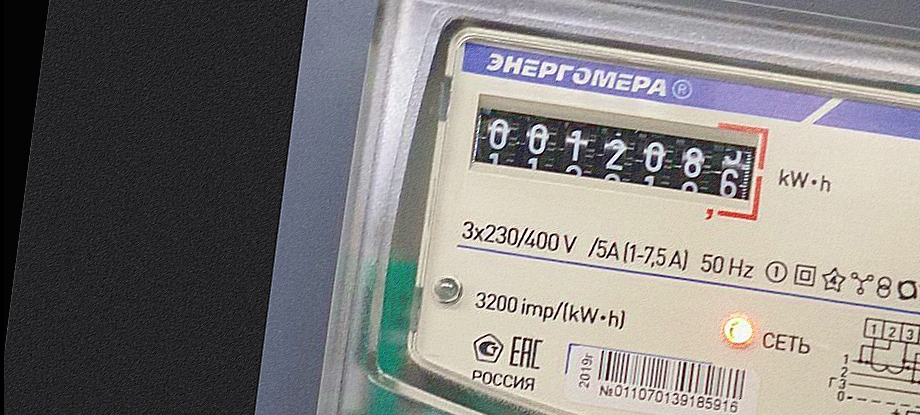0: (640, 139, 669, 177), (524, 120, 552, 159), (486, 115, 511, 154)
1: (564, 127, 586, 166)
2: (601, 137, 631, 175)
6: (715, 164, 742, 202)
8: (678, 145, 706, 183)
screen: (455, 82, 780, 239)
